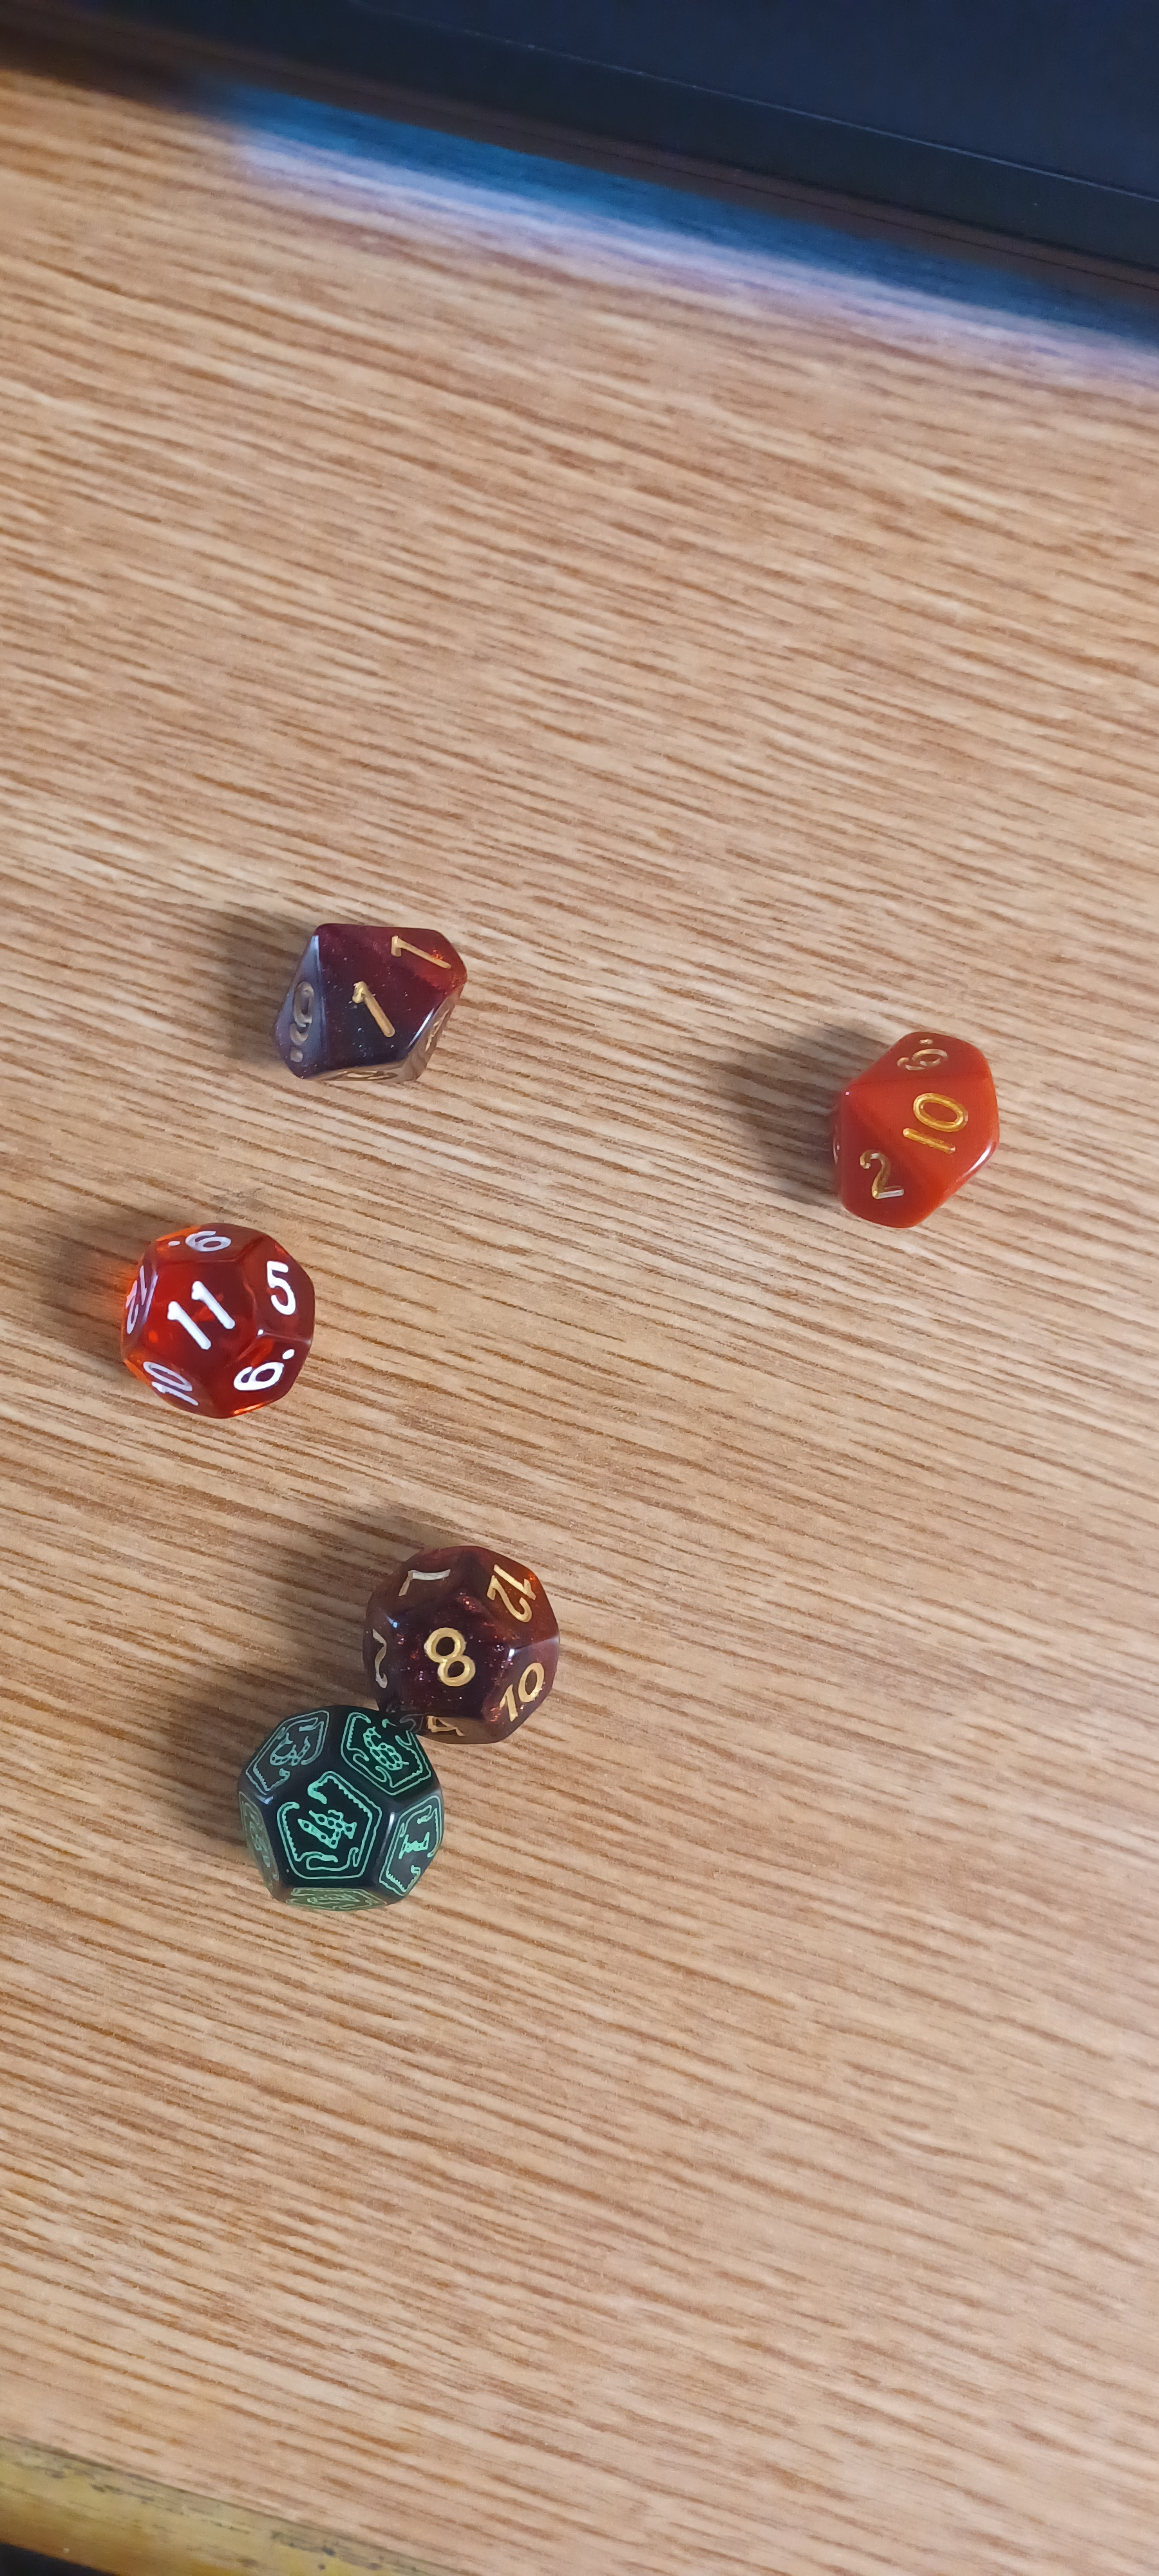eight: (337, 1515, 601, 1774)
eleven: (82, 1196, 356, 1444)
four: (186, 1679, 466, 1920)
one: (230, 879, 502, 1119)
ten: (768, 991, 1065, 1260)
